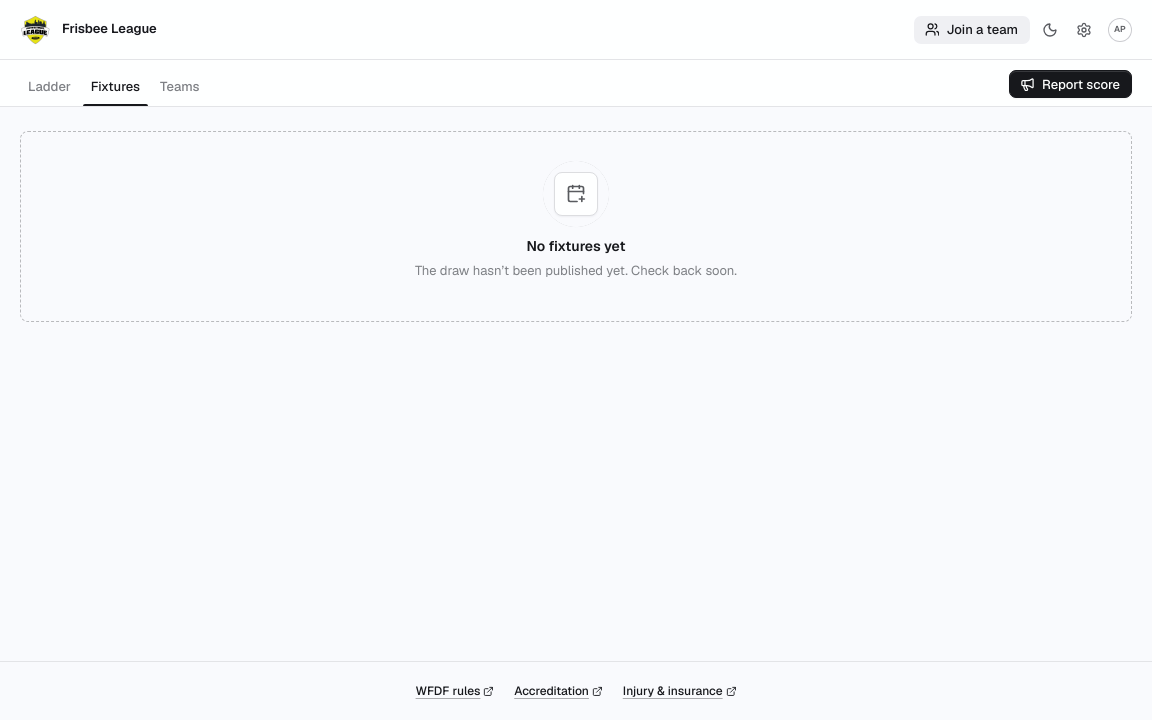
Dashboard › asks signed in players without a team to join one before reporting
Check: the text "No fixtures yet" is shown, box [526,236,625,257]
Click the button "Report score".
click(1070, 84)  # box [1009,70,1132,98]
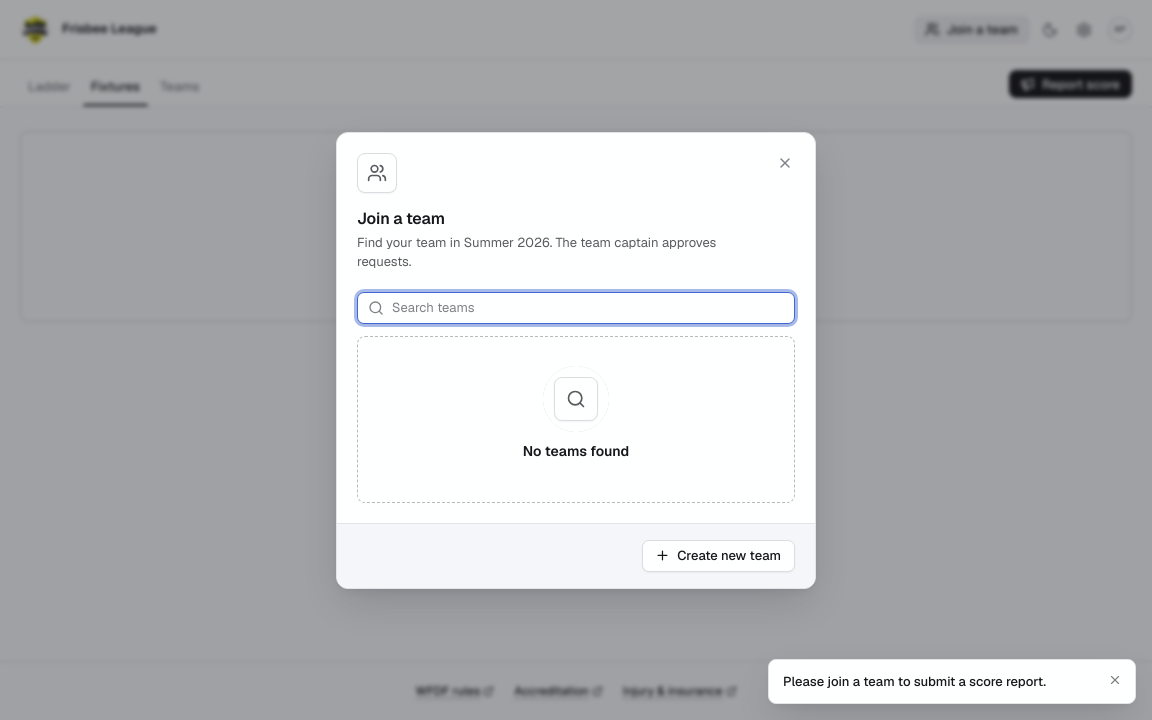
Check: the text "Please join a team to submit a score report." is shown, box [783,672,1046,690]
Check: the text "No teams found" is shown, box [523,440,629,462]
Click the button named "Close".
click(785, 162)  # box [771,148,799,176]
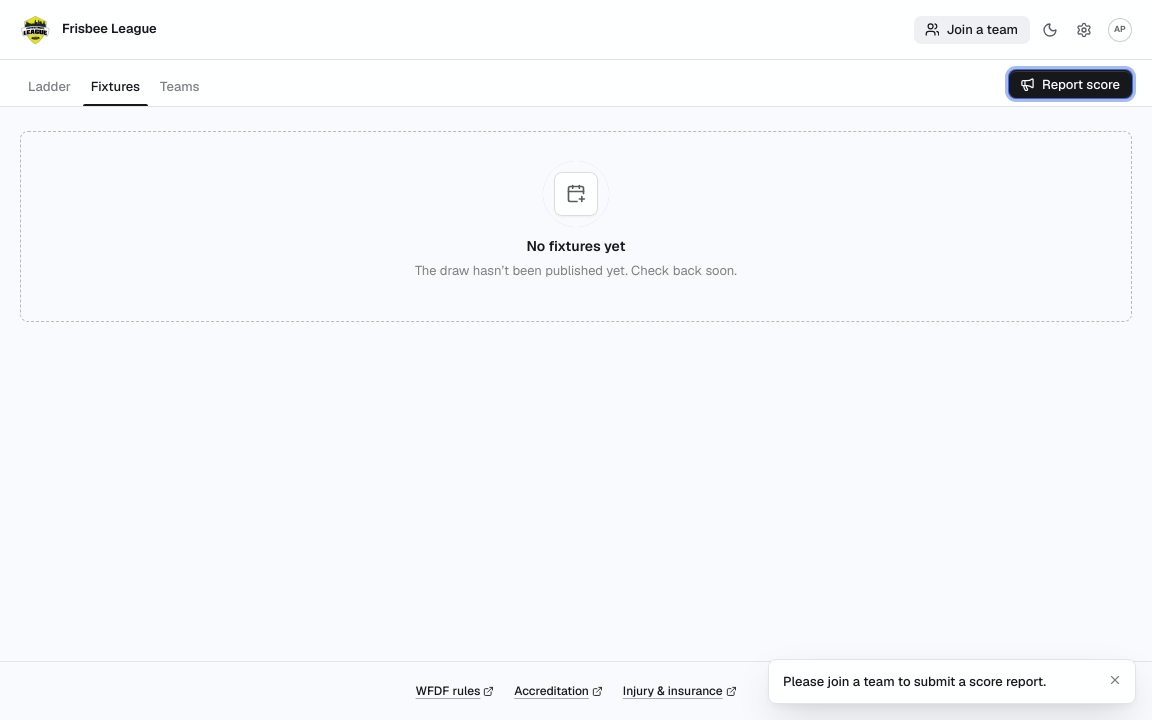
Check: the dialog is gone
Click the button "Join a team".
click(972, 30)  # box [914,16,1030,44]
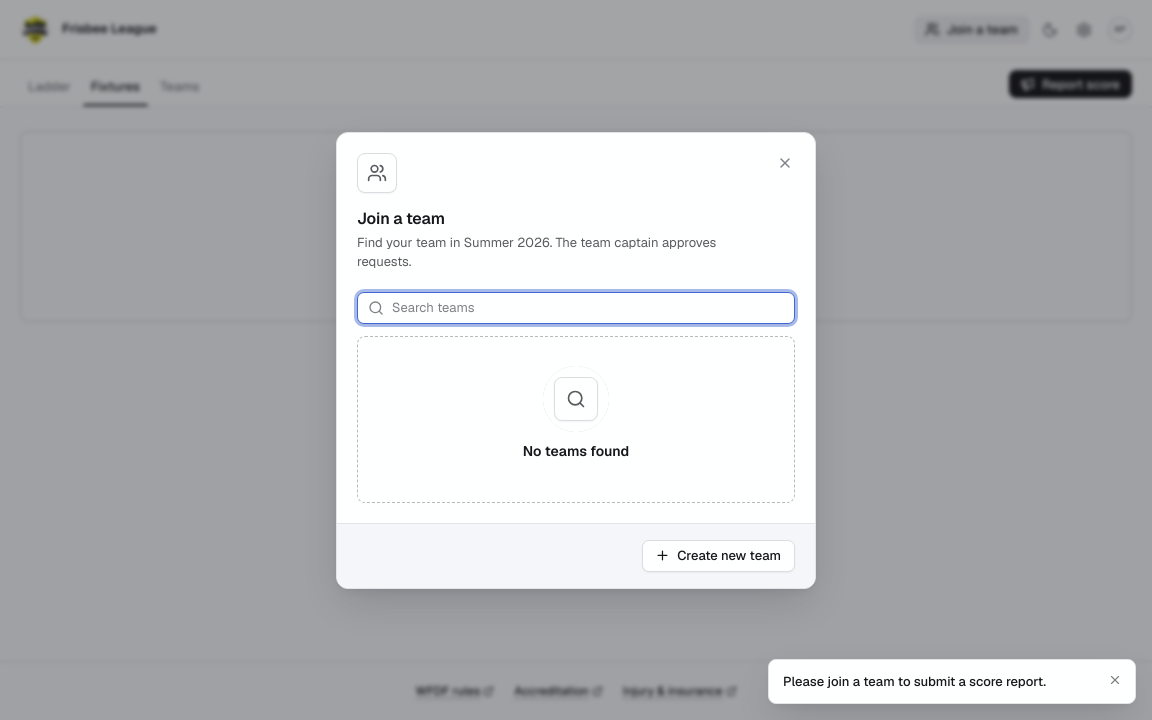
Check: the dialog "Join a team" is shown, box [336,132,816,588]
